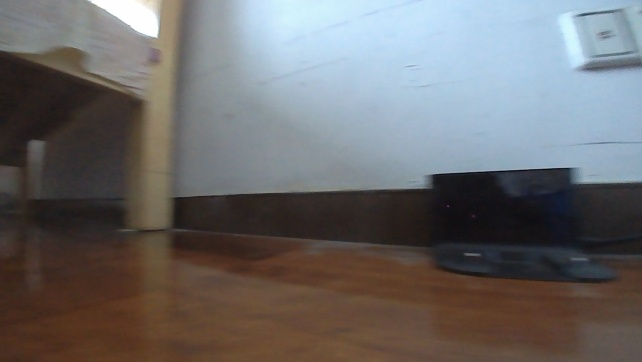bed1: (0, 0, 196, 235)
charger: (424, 165, 620, 283)
wire: (575, 227, 641, 251)
